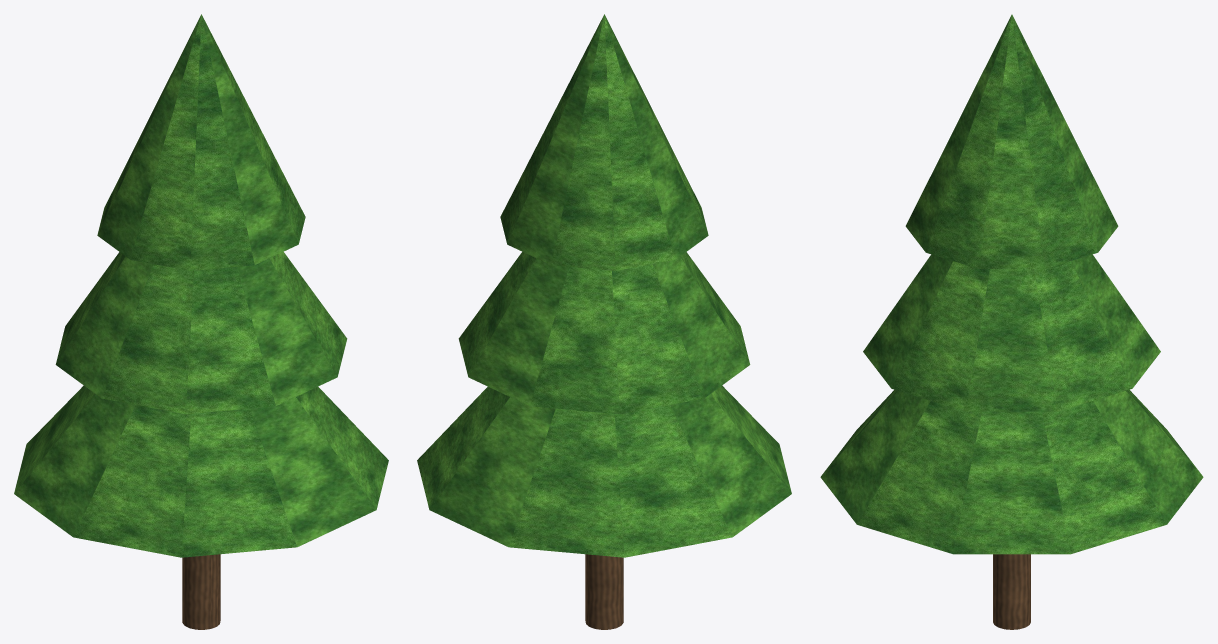
Rendered from obj-prefab-tree.glb.
The picture shows the model from 3 angles, left to right: view 1: azimuth 30°, elevation 25°; view 2: azimuth 150°, elevation 25°; view 3: azimuth 270°, elevation 25°; orthographic projection.
Parts seen in each view (by area): view 1: prefab_tree; view 2: prefab_tree; view 3: prefab_tree.
Boxes of the visible parts, left/top/right/bottom form: prefab_tree: left=14, top=14, right=388, bottom=629; prefab_tree: left=417, top=14, right=791, bottom=629; prefab_tree: left=820, top=14, right=1203, bottom=629.
Bounding box in the file's own units: 3.42 × 6.3 × 3.6.
Materials: 2 (2 with a texture image).
